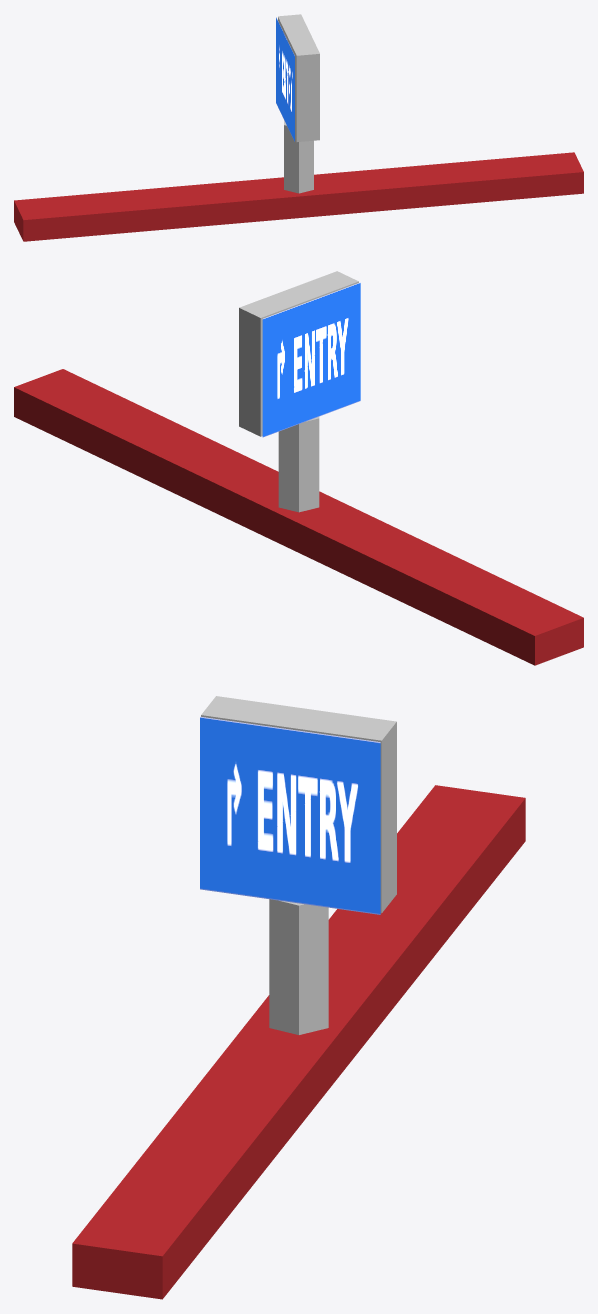
The model's file is citgo_entry.glb.
3 renders of one model, top to bottom at view 1: azimuth 30°, elevation 25°; view 2: azimuth 150°, elevation 25°; view 3: azimuth 270°, elevation 25°, orthographic. The views are drawn at different scales.
Visible parts, largest first — view 1: citgo_entry_lod0; view 2: citgo_entry_lod0; view 3: citgo_entry_lod0.
Boxes of the visible parts, <box> form: citgo_entry_lod0: <box>14,14,583,241</box>; citgo_entry_lod0: <box>14,271,583,665</box>; citgo_entry_lod0: <box>72,696,525,1299</box>.
Size of what is drawn, in the model's own units: 5.85 by 2 by 2.38.
5 materials, 1 textured.
